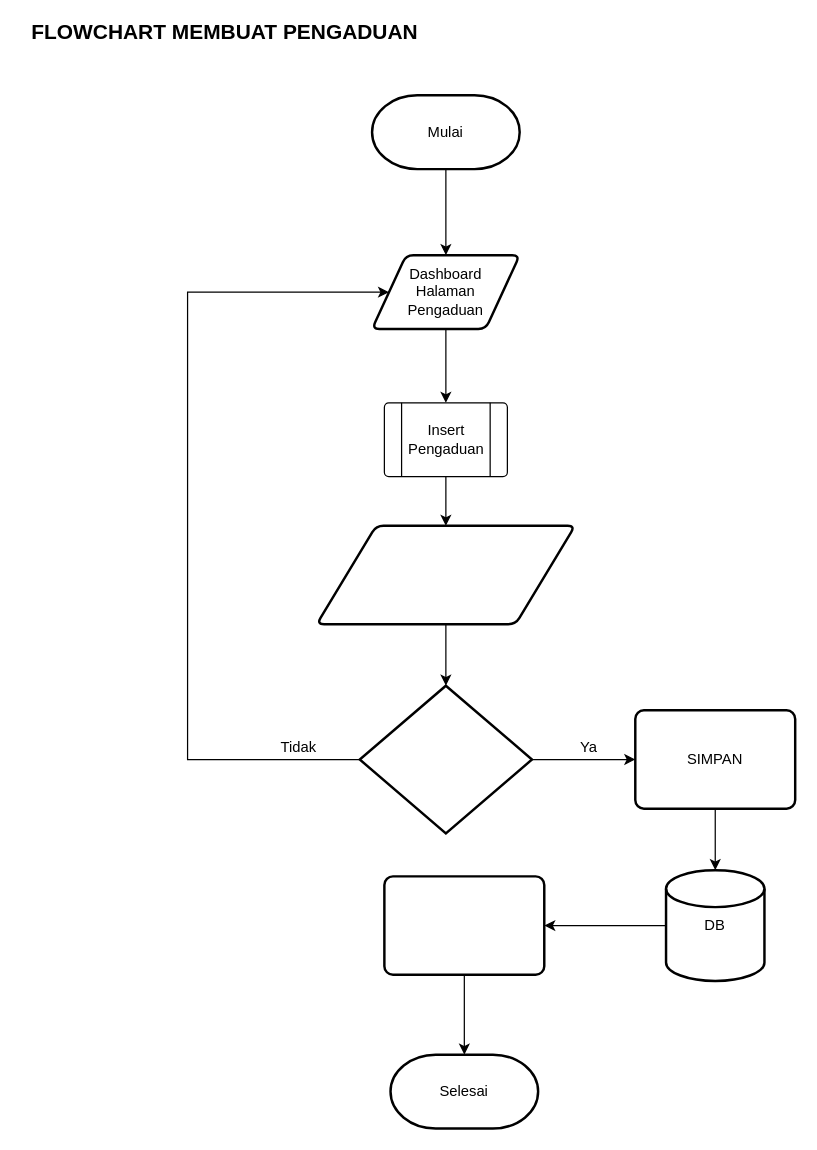
This 817x1150 diagram has some shape labels left out. Each missing label, with the centre of its shape:
Apakah memenuhi syarat valdasi ?: (x=445, y=759)
Masukkan Judul, isi laporan, dan foto: (x=445, y=574)
Message "Laporan berhasil dikirim": (x=464, y=925)
